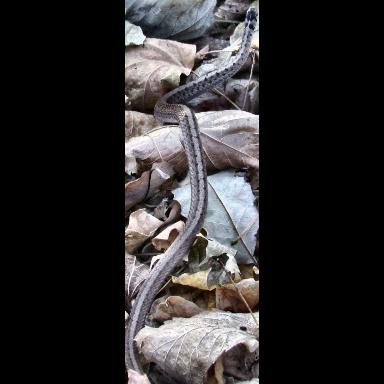snake: (128, 1, 258, 370)
